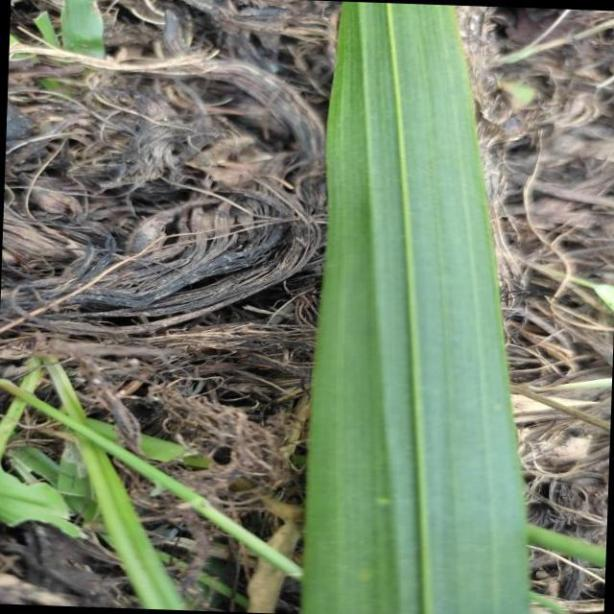Healthy: (302, 6, 528, 614)
